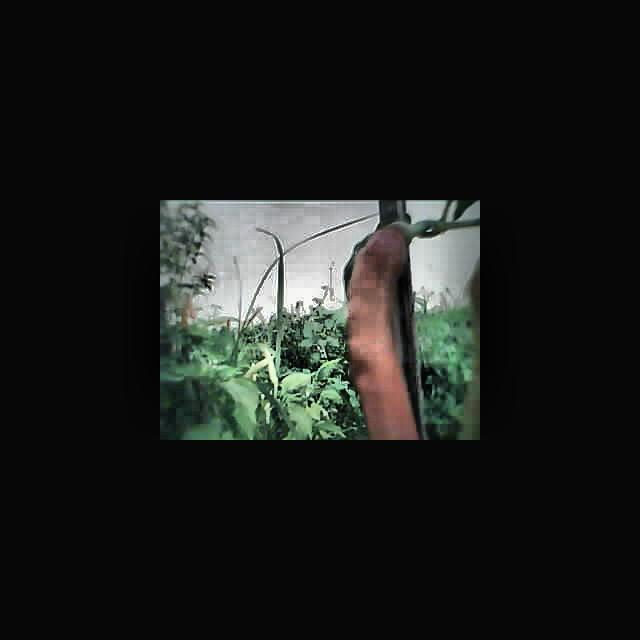Cabai: (355, 226, 397, 440)
